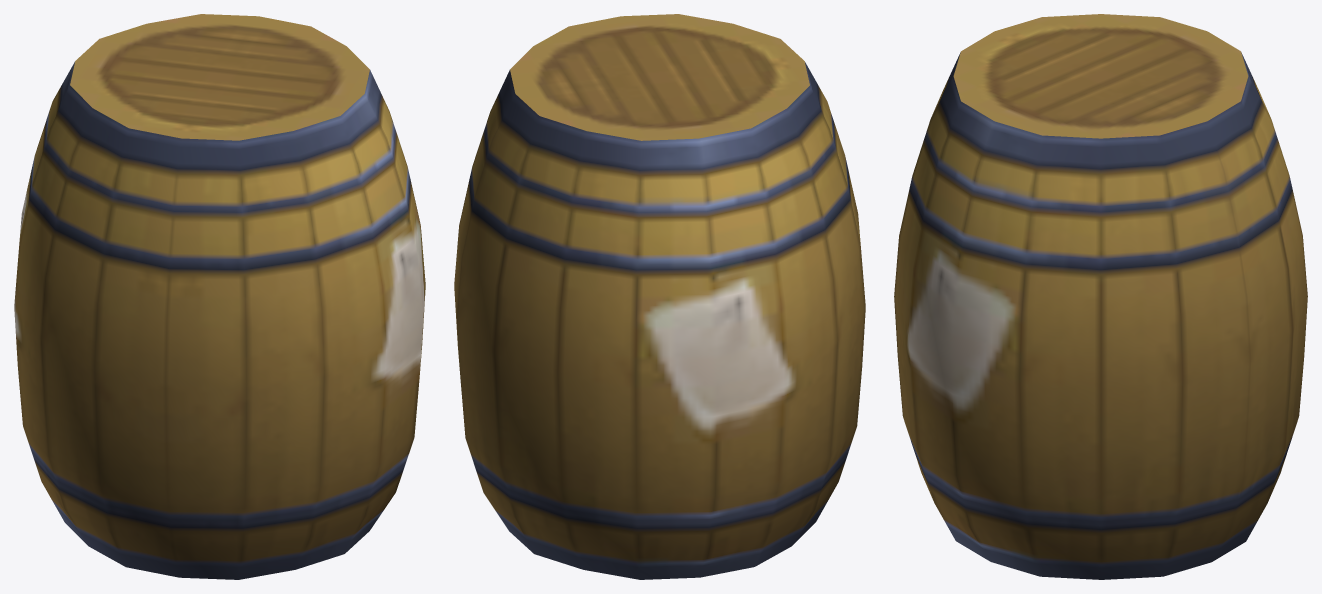
File: Scene_wujian_mutong_01.FBX
3 renders of one model, left to right at view 1: azimuth 30°, elevation 25°; view 2: azimuth 150°, elevation 25°; view 3: azimuth 270°, elevation 25°, orthographic.
Visible parts, largest first — view 1: Scene_wujian_mutong_01_LOD_0; view 2: Scene_wujian_mutong_01_LOD_0; view 3: Scene_wujian_mutong_01_LOD_0.
Boxes of the visible parts, left/top/right/bottom form: Scene_wujian_mutong_01_LOD_0: left=14, top=14, right=425, bottom=579; Scene_wujian_mutong_01_LOD_0: left=454, top=14, right=865, bottom=579; Scene_wujian_mutong_01_LOD_0: left=894, top=14, right=1307, bottom=579.
Size of what is drawn, in the model's own units: 87.09 by 102 by 87.09.
